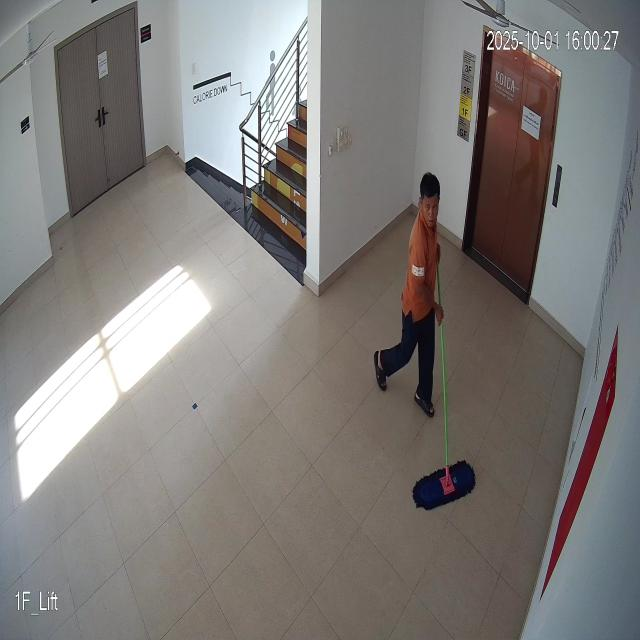face: (411, 163, 442, 234)
